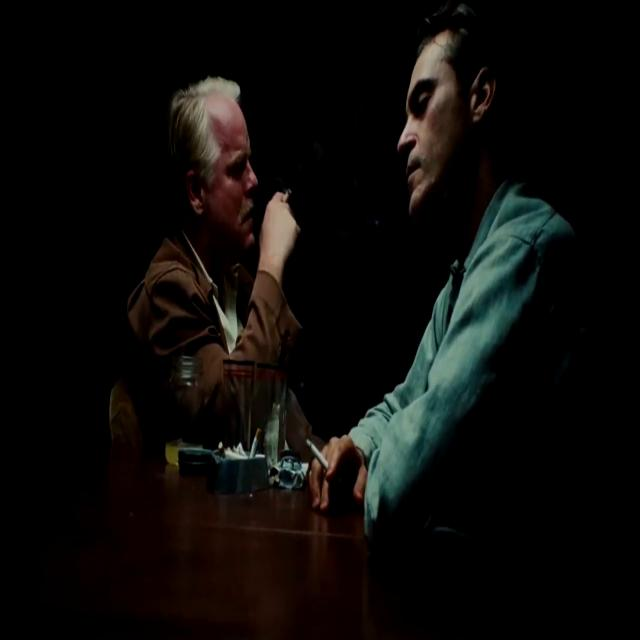Smooking: (300, 431, 330, 469)
